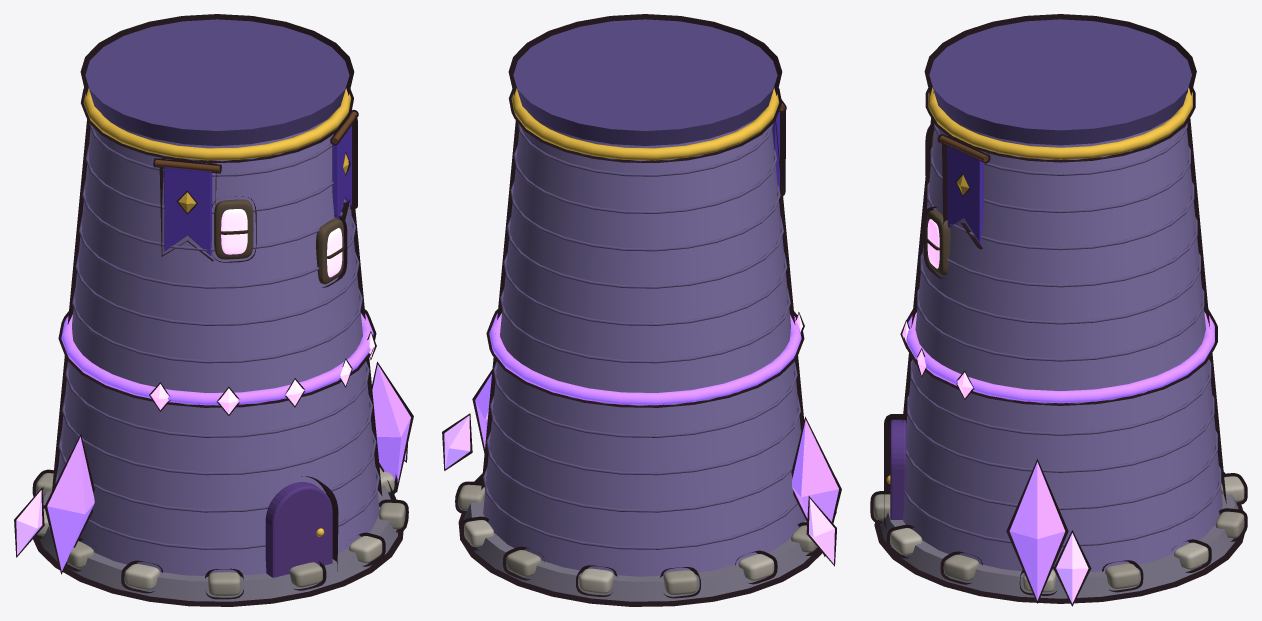
The model's file is tower_mage.glb.
3 views of the same model, side by side, from view 1: azimuth 30°, elevation 25°; view 2: azimuth 150°, elevation 25°; view 3: azimuth 270°, elevation 25° (orthographic).
Parts seen in each view (by area): view 1: object 30, object 43, banner (×2), object 2, door, win (×2), object 45, object 70, object 62, object 66, object 1, object 29 (+20 smaller); view 2: object 30, object 43, object 2, object 45, object 70, object 62, object 1, object 29, object 42, object 33, object 34, object 31 (+19 smaller); view 3: object 30, object 43, object 2, object 45, object 66, object 70, banner, object 29, object 1, door, object 42, win (+19 smaller).
Boxes of the visible parts, x1,y1,x2,y2 form: object 30: [58, 112, 379, 575]; object 43: [85, 19, 349, 145]; banner (×2): [153, 109, 358, 261]; object 2: [39, 485, 397, 601]; door: [265, 476, 338, 577]; win (×2): [212, 196, 347, 287]; object 45: [61, 313, 373, 405]; object 70: [83, 88, 351, 160]; object 62: [47, 437, 94, 571]; object 66: [372, 364, 410, 482]; object 1: [33, 480, 403, 606]; object 29: [52, 119, 382, 495]; object 30: [483, 112, 805, 576]; object 43: [513, 19, 777, 145]; object 2: [463, 498, 810, 601]; object 45: [489, 313, 801, 405]; object 70: [511, 88, 779, 160]; object 62: [792, 420, 838, 521]; object 1: [458, 473, 822, 606]; object 29: [481, 119, 804, 490]; object 42: [508, 14, 782, 95]; object 33: [490, 395, 800, 475]; object 34: [493, 361, 797, 437]; object 31: [483, 466, 797, 549]; object 30: [903, 113, 1222, 571]; object 43: [929, 19, 1191, 145]; object 2: [880, 490, 1238, 598]; object 45: [906, 312, 1214, 403]; object 66: [1009, 462, 1065, 600]; object 70: [928, 87, 1192, 159]; banner: [937, 134, 990, 249]; object 29: [902, 91, 1226, 503]; object 1: [874, 472, 1244, 603]; door: [884, 414, 907, 528]; object 42: [924, 14, 1196, 95]; win: [923, 206, 950, 279].
Bounding box in the file's own units: 1.95 × 2.17 × 1.62.
